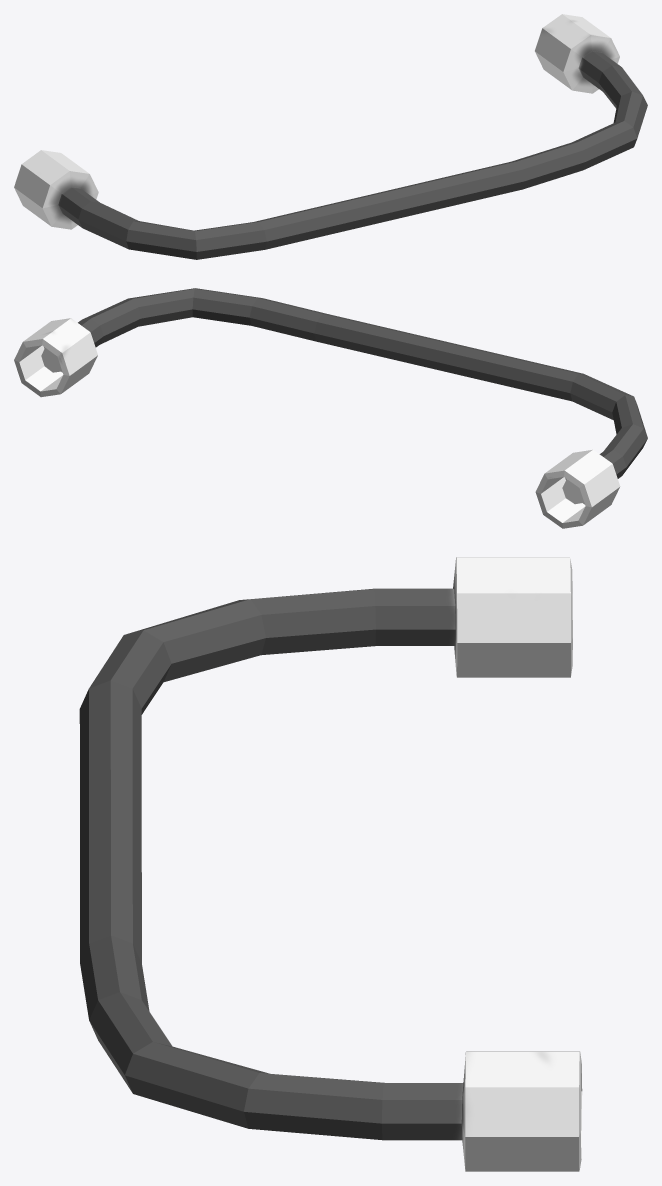
File: White_tube.fbx
3 renders of one model, top to bottom at view 1: azimuth 30°, elevation 25°; view 2: azimuth 150°, elevation 25°; view 3: azimuth 270°, elevation 25°, orthographic. The views are drawn at different scales.
Parts seen in each view (by area): view 1: White_tube; view 2: White_tube; view 3: White_tube.
Boxes of the visible parts, x1,y1,x2,y2 form: White_tube: (14, 14, 647, 259); White_tube: (14, 288, 647, 528); White_tube: (79, 557, 582, 1171).
Bounding box in the file's own units: 5.89 × 0.638 × 2.22.
